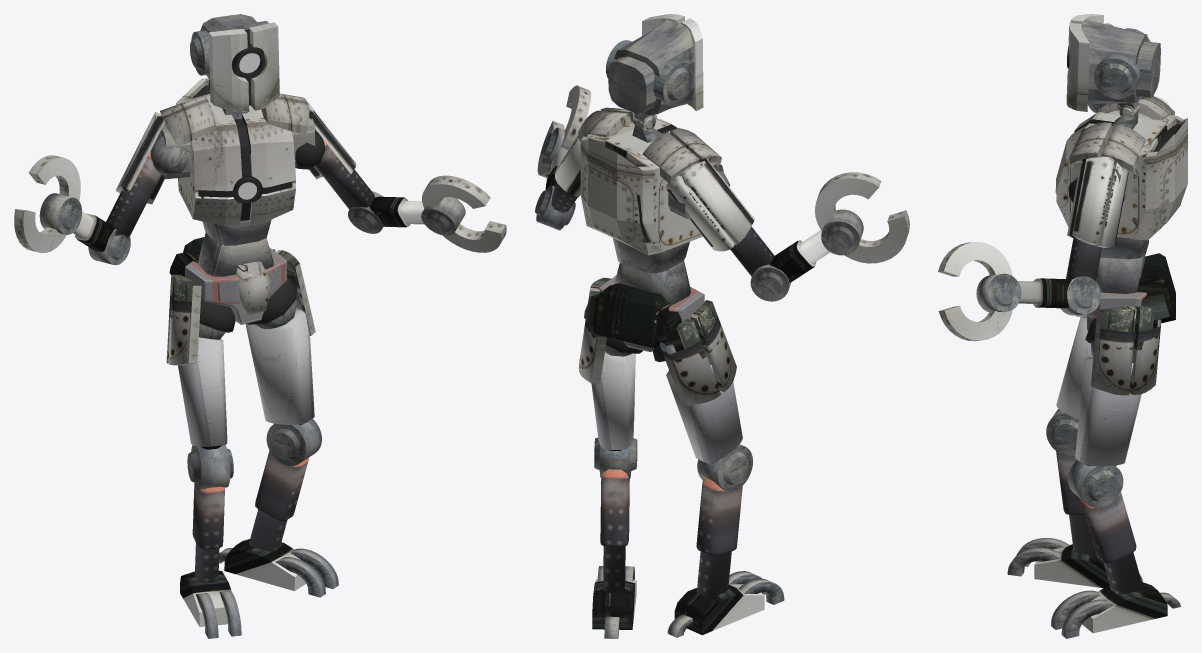
File: Robot 5 pose.fbx
3 views of the same model, side by side, from view 1: azimuth 30°, elevation 25°; view 2: azimuth 150°, elevation 25°; view 3: azimuth 270°, elevation 25° (orthographic). The views are drawn at different scales.
Parts seen in each view (by area): view 1: Cube.017, Cube.005, Icosphere, Icosphere.001, Cylinder.004, Cylinder.003, Icosphere.004, Cylinder.008, Cube.013, Cylinder.017, Icosphere.005, Cube.002 (+7 smaller); view 2: Cube.017, Icosphere, Cube.005, Cylinder.003, Icosphere.004, Icosphere.001, Cylinder.008, Cube.029, Cylinder.004, Cube.015, Cube.002, Cylinder.002 (+6 smaller); view 3: Cube.017, Icosphere.001, Cube.005, Cylinder.004, Icosphere.005, Cylinder.017, Cube.013, Cube.015, Cylinder.003, Cylinder.018, Cube.002, Cube.029 (+3 smaller).
Boxes of the visible parts, box(x1,y1,x2,y2) form: Cube.017: box(158, 78, 315, 225); Cube.005: box(190, 14, 279, 112); Icosphere: box(166, 274, 227, 449); Icosphere.001: box(245, 249, 315, 424); Cylinder.004: box(249, 418, 321, 551); Cylinder.003: box(187, 445, 233, 583); Icosphere.004: box(106, 112, 188, 237); Cylinder.008: box(14, 155, 82, 253); Cube.013: box(219, 539, 338, 597); Cylinder.017: box(421, 175, 506, 252); Icosphere.005: box(295, 101, 374, 209); Cube.002: box(198, 219, 273, 276); Cube.017: box(578, 107, 723, 255); Icosphere: box(659, 300, 742, 463); Cube.005: box(606, 14, 703, 115); Cylinder.003: box(696, 444, 752, 597); Icosphere.004: box(665, 158, 774, 276); Icosphere.001: box(578, 277, 635, 450); Cylinder.008: box(815, 172, 909, 263); Cube.029: box(584, 283, 681, 347); Cylinder.004: box(594, 437, 637, 592); Cube.015: box(667, 571, 784, 637); Cube.002: box(613, 238, 691, 304); Cylinder.002: box(750, 230, 830, 301); Cube.017: box(1055, 96, 1187, 240); Icosphere.001: box(1075, 306, 1161, 466); Cube.005: box(1066, 14, 1160, 111); Cylinder.004: box(1068, 460, 1142, 594); Icosphere.005: box(1066, 156, 1128, 281); Cylinder.017: box(938, 242, 1021, 341); Cube.013: box(1051, 582, 1180, 638); Cube.015: box(1007, 538, 1142, 588); Cylinder.003: box(1046, 408, 1096, 555); Cylinder.018: box(1017, 276, 1100, 315); Cube.002: box(1096, 237, 1148, 293); Cube.029: box(1136, 253, 1175, 323).
Size of the model in its own units: 1012 by 1312 by 517.
